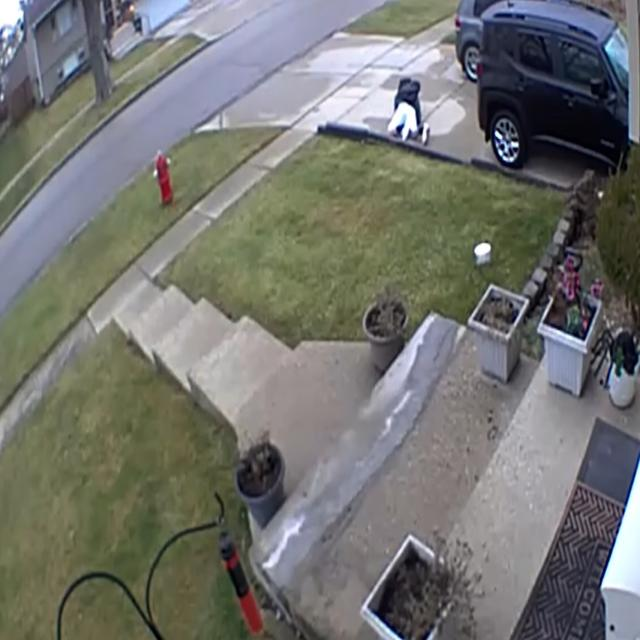fallen: (387, 77, 430, 144)
